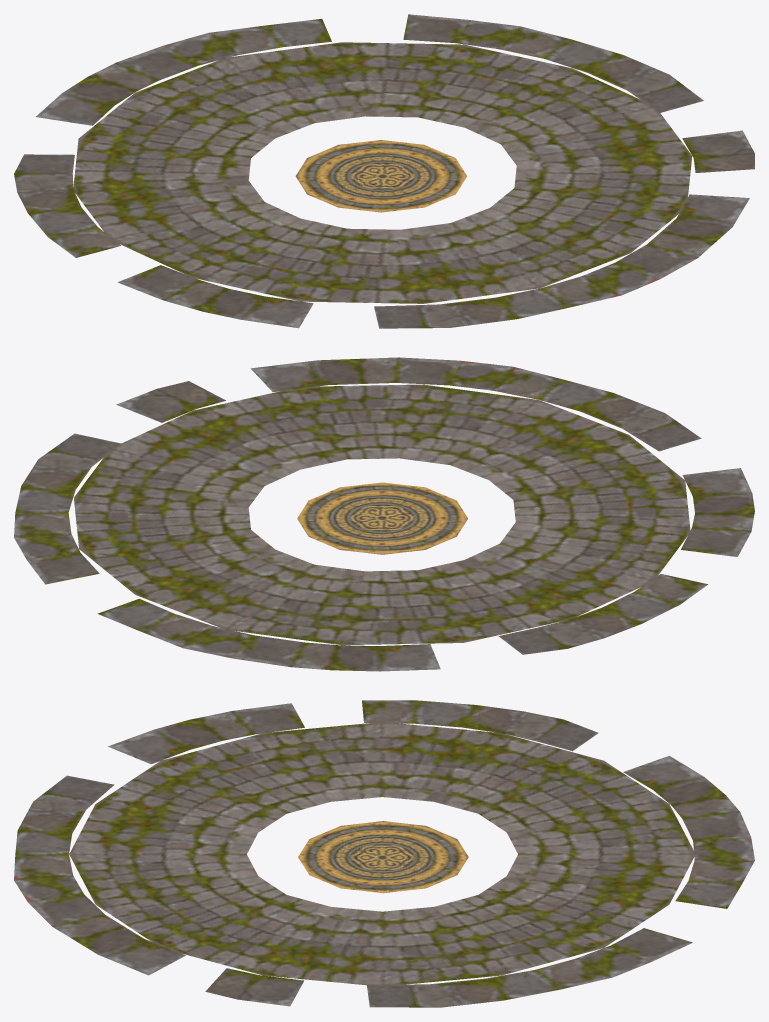
The model's file is b_zx_bosstai01_01_lod2.FBX.
3 renders of one model, top to bottom at view 1: azimuth 30°, elevation 25°; view 2: azimuth 150°, elevation 25°; view 3: azimuth 270°, elevation 25°, orthographic.
Parts seen in each view (by area): view 1: b_zx_bosstai01_01_lod2; view 2: b_zx_bosstai01_01_lod2; view 3: b_zx_bosstai01_01_lod2.
Part boxes in pixels (x1=…): b_zx_bosstai01_01_lod2: x1=14, y1=14, x2=754, y2=328; b_zx_bosstai01_01_lod2: x1=14, y1=357, x2=754, y2=671; b_zx_bosstai01_01_lod2: x1=14, y1=700, x2=754, y2=1007.
Bounding box in the file's own units: 20.32 × 0.1017 × 20.71.
